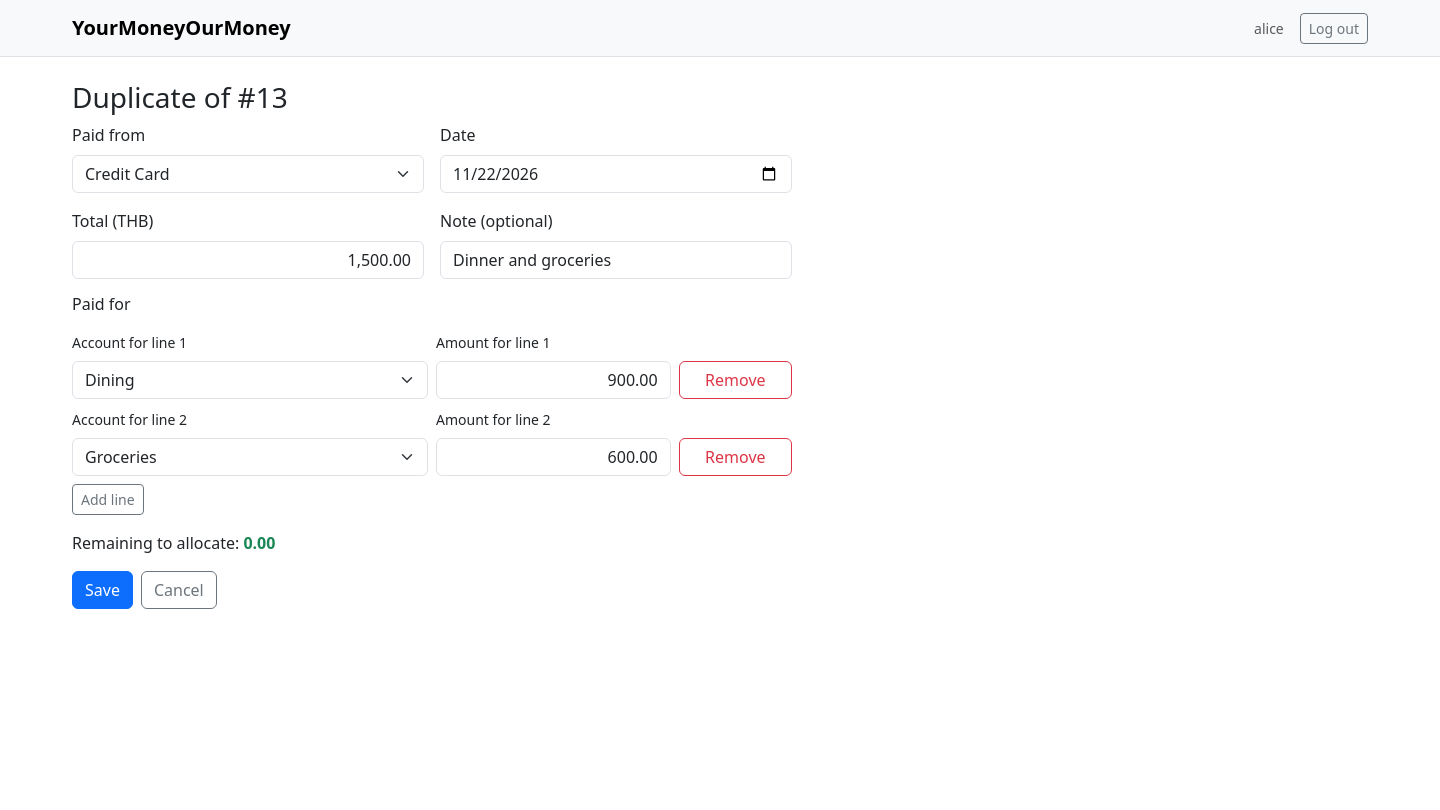
it: Duplicate transaction form (T-FAV-UI-01, T-FAV-UI-02) › T-FAV-UI-01: pre-fills fields from draft with heading 'Duplicate of #13' and saves via new POST
Expected: the heading "Duplicate of #13" is shown, [72,78,288,116]
Expected: the dropdown labelled "Paid from" shows "Credit Card", [72,155,424,193]
Click the button "Save" at (102, 590), box [72,571,133,609]
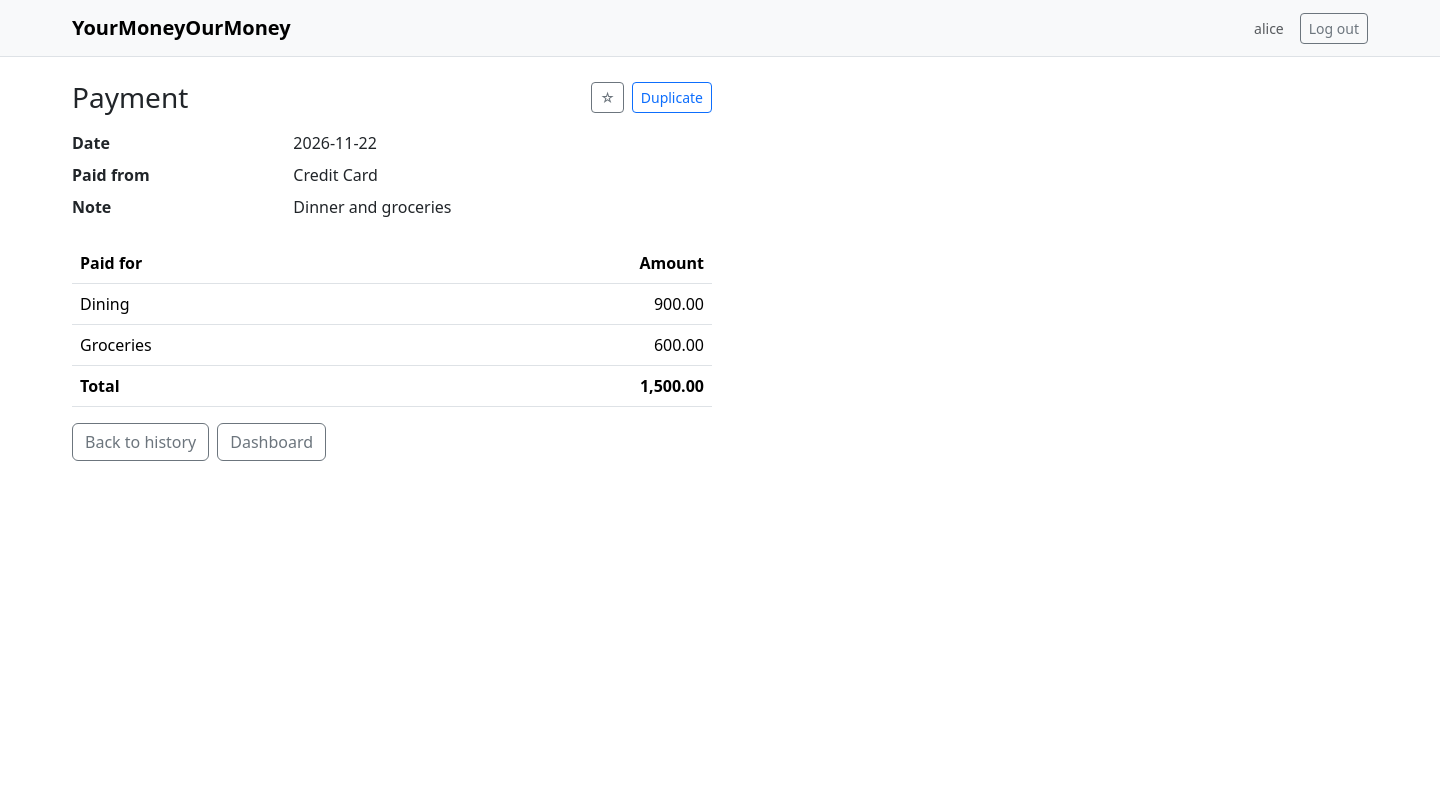
Result: the text "2026-11-22" is shown at [293,132,377,154]
